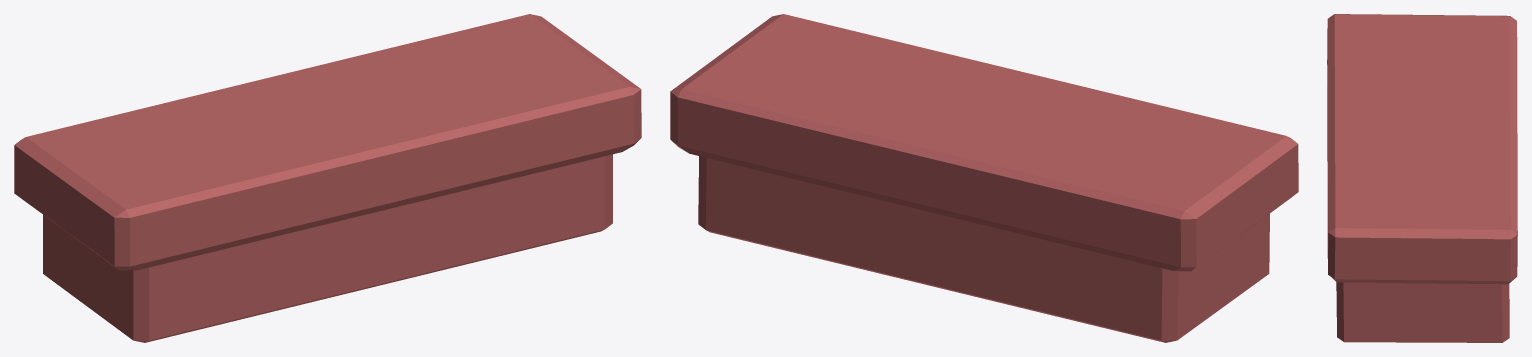
The model's file is Ottoman_3.fbx.
The picture shows the model from 3 angles, left to right: view 1: azimuth 30°, elevation 25°; view 2: azimuth 150°, elevation 25°; view 3: azimuth 270°, elevation 25°; orthographic projection. The views are drawn at different scales.
Parts seen in each view (by area): view 1: Ottoman_3; view 2: Ottoman_3; view 3: Ottoman_3.
Boxes of the visible parts, bbox=[...] form: Ottoman_3: bbox=[14, 14, 641, 342]; Ottoman_3: bbox=[670, 14, 1298, 342]; Ottoman_3: bbox=[1327, 14, 1517, 342].
Bounding box in the file's own units: 222 × 79.97 × 57.52.
